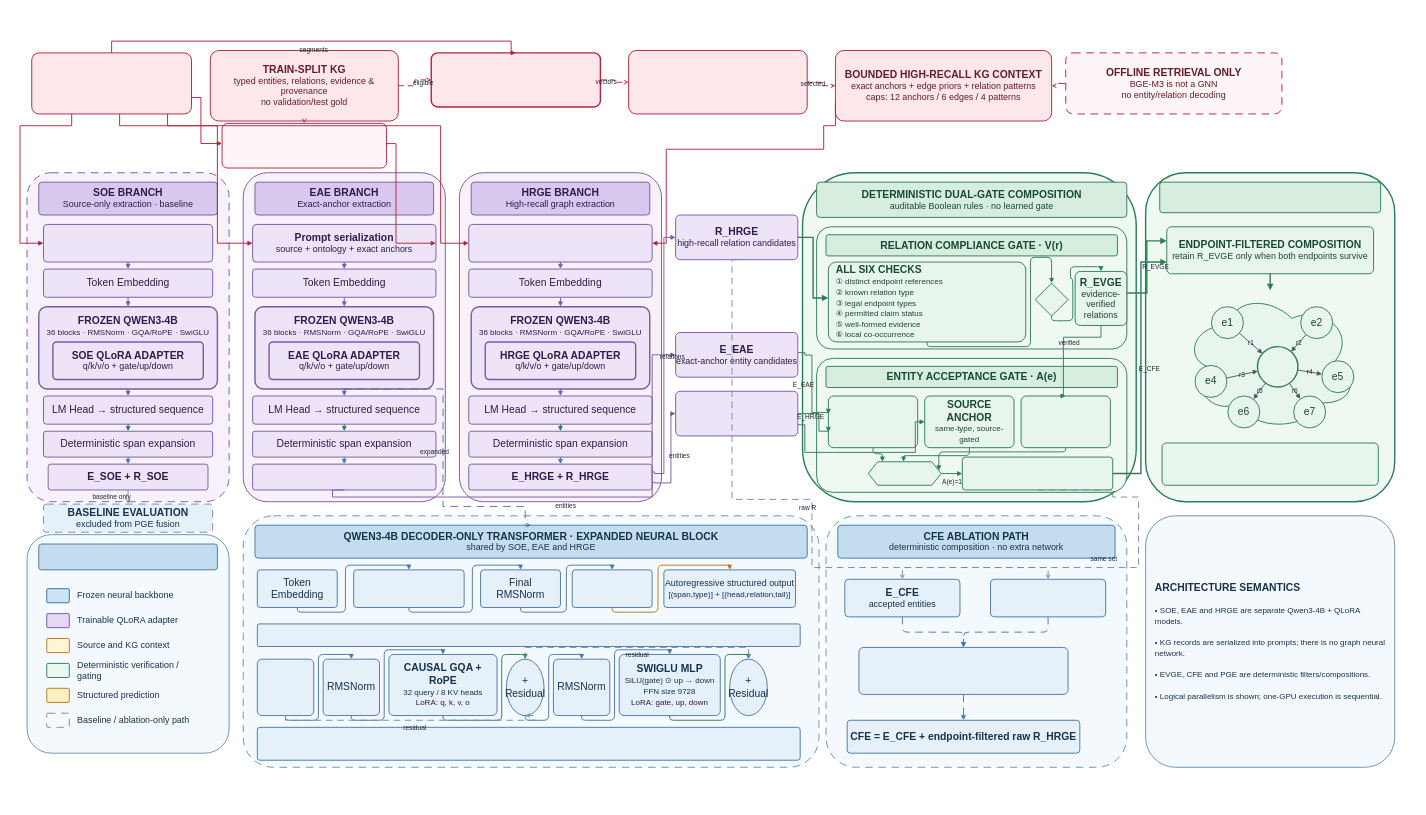
This 1426x815 diagram has some shape labels left out. Here are the shapes that lost their labels. From the top down, the centre of each, then its label:
At (111,83): "SOURCE DOCUMENT token sequence + local evidence spans".
At (515,79): "FROZEN BGE-M3 semantic encoder".
At (717,82): "DENSE RETRIEVAL normalized embeddings → cosine Top-k source/evidence gates".
At (304,145): "EXACT-ANCHOR CONTEXT exact source match + type balance conservative EAE hints".
At (1270,197): "FINAL PGE PREDICTION".
At (128,243): "Source-only prompt source + ontology · no KG context".
At (560,243): "Prompt serialization source + ontology + bounded KG context".
At (1051,299): "AND".
At (1277,367): "e3".
At (736,413): "E_HRGE high-recall entity candidates".
At (873,421): "EAE ↔ HRGE same text + type".
At (1065,421): "VERIFIED ENDPOINT in an R_EVGE relation".
At (344,476): "E_EAE + R_EAE standalone comparison only".
At (904,473): "ANY / OR".
At (1037,473): "E_CFE · ACCEPTED ENTITIES normalized text–type dedup.".
At (1270,464): "PGE = E_CFE + endpoint-filtered R_EVGE directed, typed, evidence-linked graph".
At (128,556): "FIGURE LEGEND".
At (408,588): "36 × Decoder Blocks hidden size 2560".
At (612,588): "LM Head".
At (1048,598): "RAW R_HRGE unverified relations".
At (528,635): "ONE REPEATED DECODER BLOCK".
At (285,687): "Hidden states".
At (963,671): "ENDPOINT FILTER retain raw relation when both endpoints are in E_CFE".
At (528,743): "QLoRA: 4-bit NF4 · double quant. · BF16 · r=8 · α=16 · dropout=.05".
